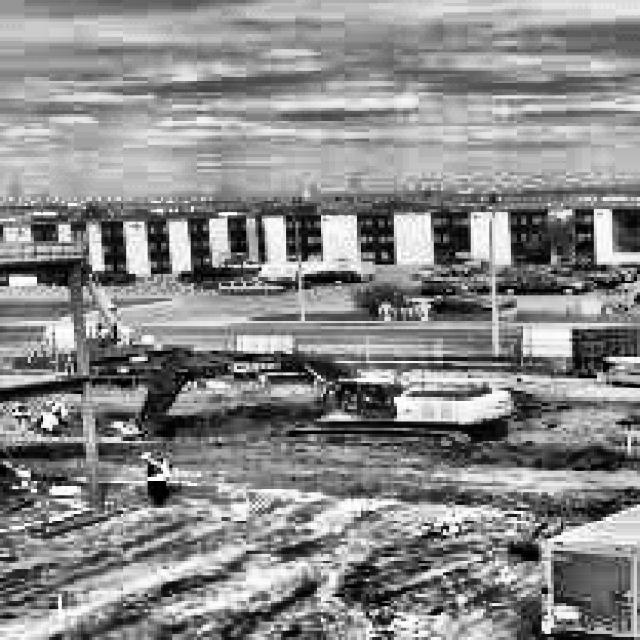excavator: (122, 344, 516, 456)
